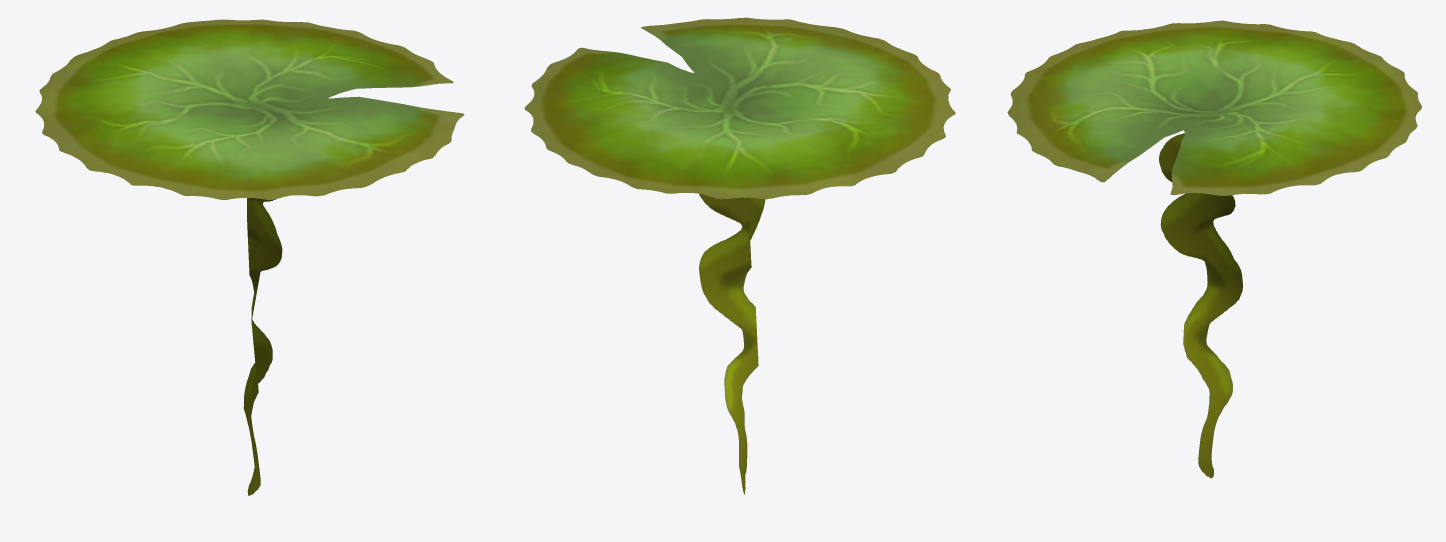
File: Ctn_waterLily_01_v01.FBX
3 views of the same model, side by side, from view 1: azimuth 30°, elevation 25°; view 2: azimuth 150°, elevation 25°; view 3: azimuth 270°, elevation 25° (orthographic). The views are drawn at different scales.
Parts seen in each view (by area): view 1: Ctn_waterLily_01_v01; view 2: Ctn_waterLily_01_v01; view 3: Ctn_waterLily_01_v01.
Boxes of the visible parts, x1=… form: Ctn_waterLily_01_v01: x1=35, y1=19, x2=464, y2=495; Ctn_waterLily_01_v01: x1=524, y1=17, x2=955, y2=494; Ctn_waterLily_01_v01: x1=1007, y1=20, x2=1421, y2=478.
Size of the model in its own units: 68.57 by 67.12 by 65.22.
